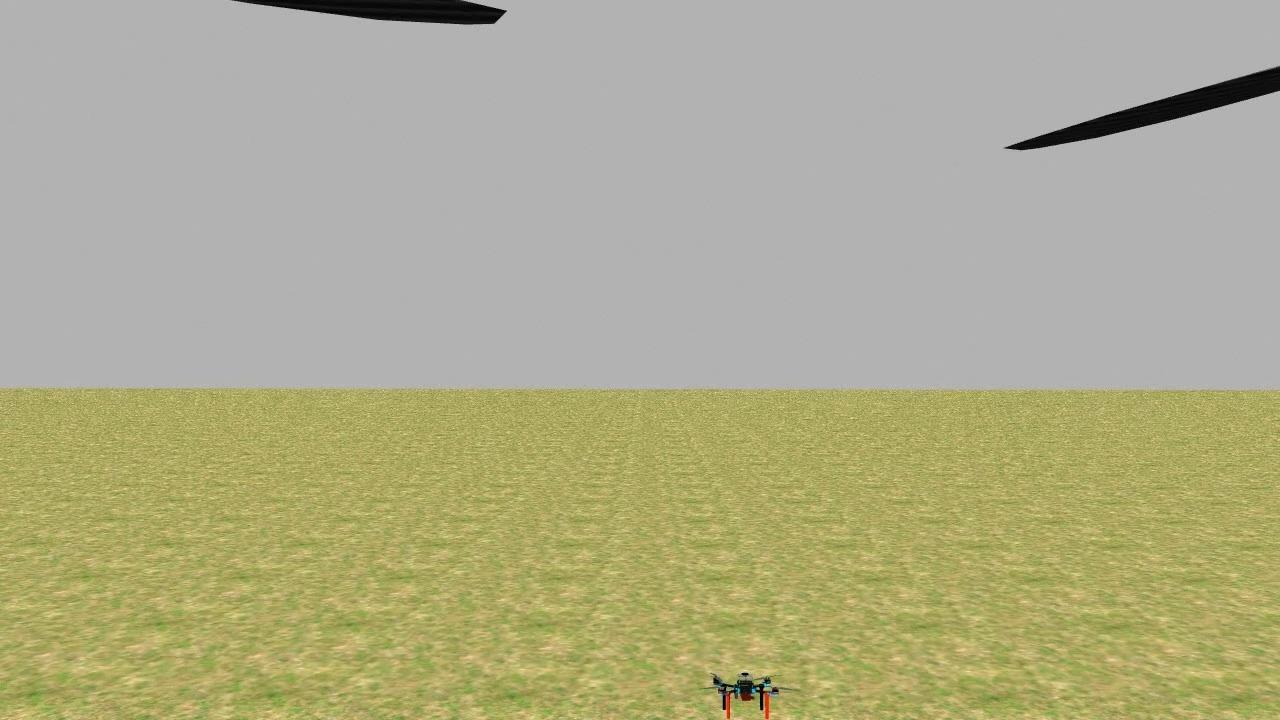UAV: (687, 644, 802, 720)
